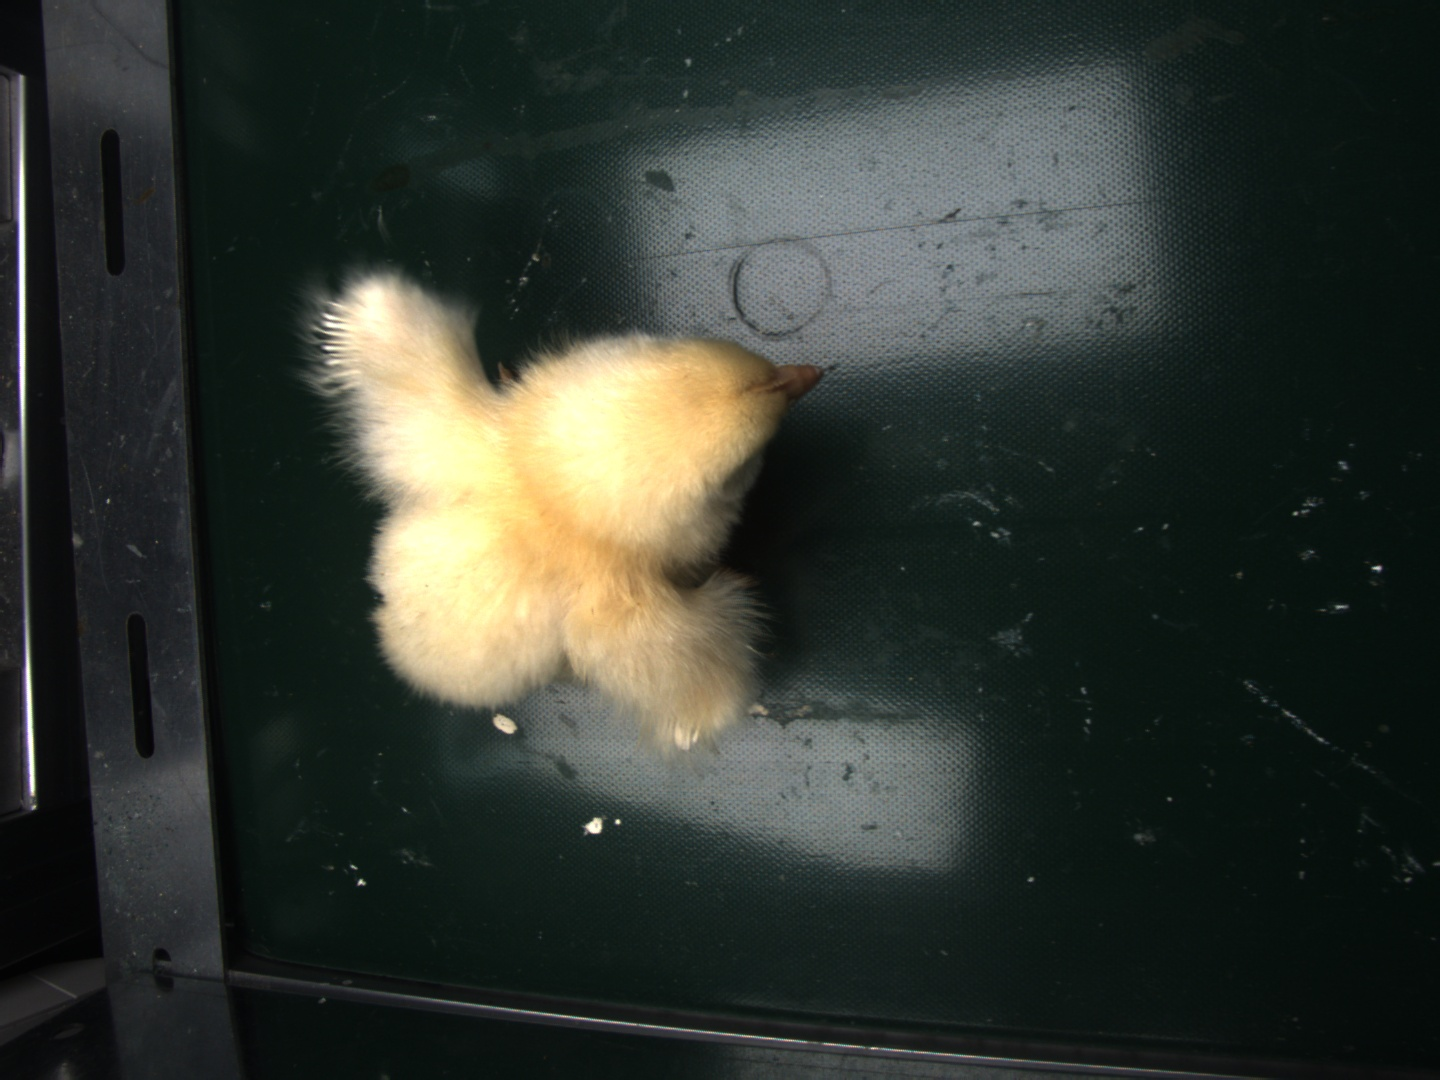male: (322, 307, 365, 394)
